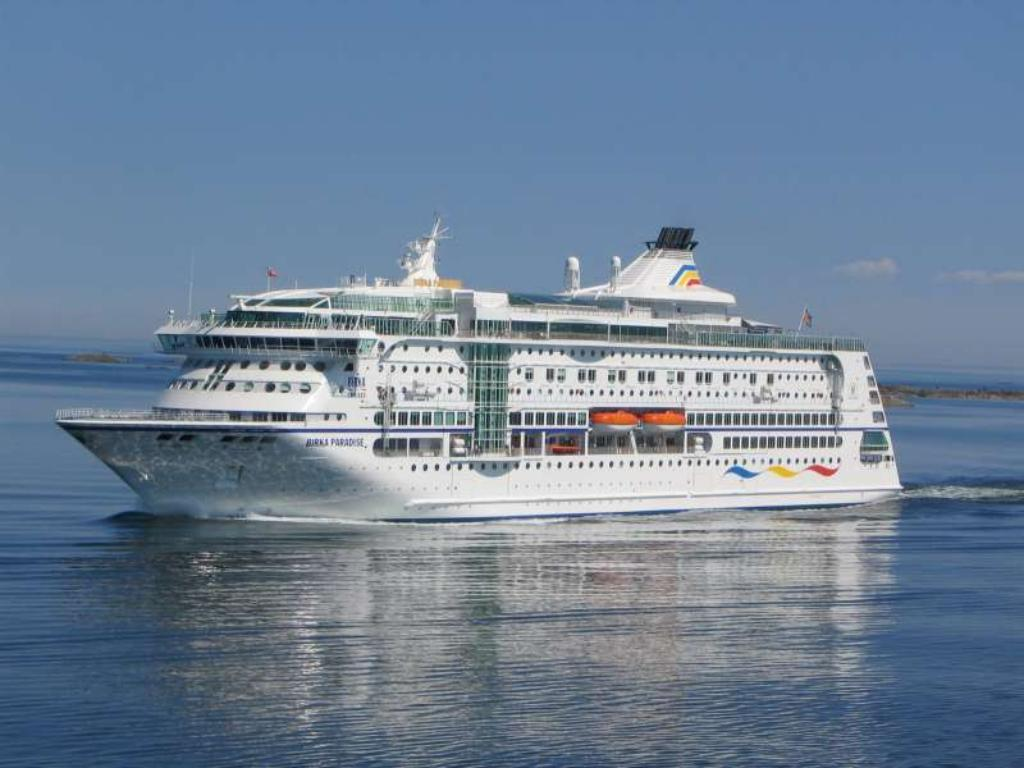PassengerShip: (44, 207, 912, 532)
